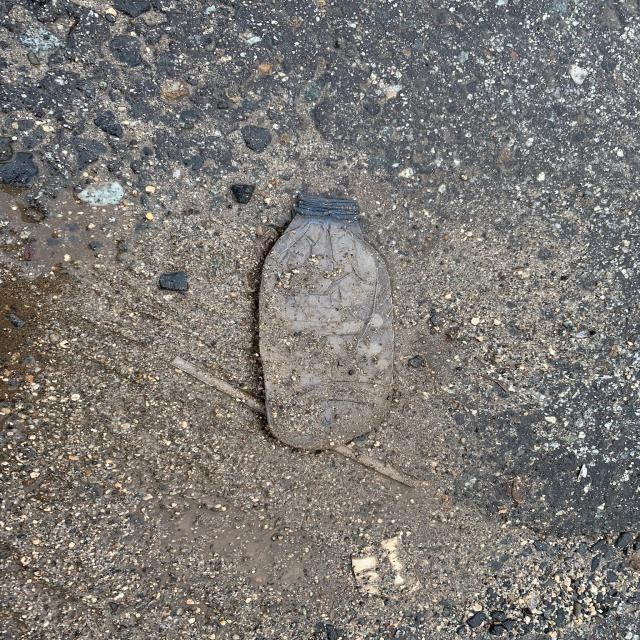litter: (256, 192, 392, 451)
